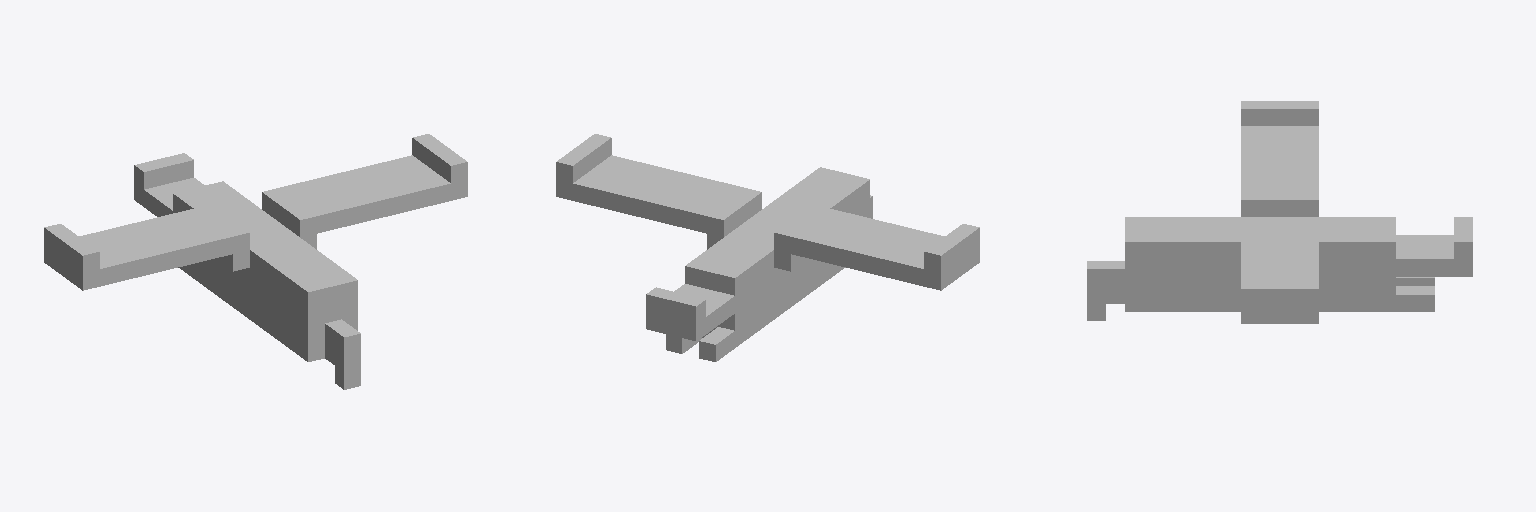
File: eagle_2.obj
The picture shows the model from 3 angles: view 1: azimuth 30°, elevation 25°; view 2: azimuth 150°, elevation 25°; view 3: azimuth 270°, elevation 25°; orthographic projection.
Parts seen in each view (by area): view 1: eagle_2; view 2: eagle_2; view 3: eagle_2.
Part boxes in pixels (bbox=[...]): eagle_2: bbox=[44, 134, 467, 389]; eagle_2: bbox=[556, 134, 979, 361]; eagle_2: bbox=[1087, 101, 1472, 323].
Bounding box in the file's own units: 2.88 × 0.875 × 2.5.